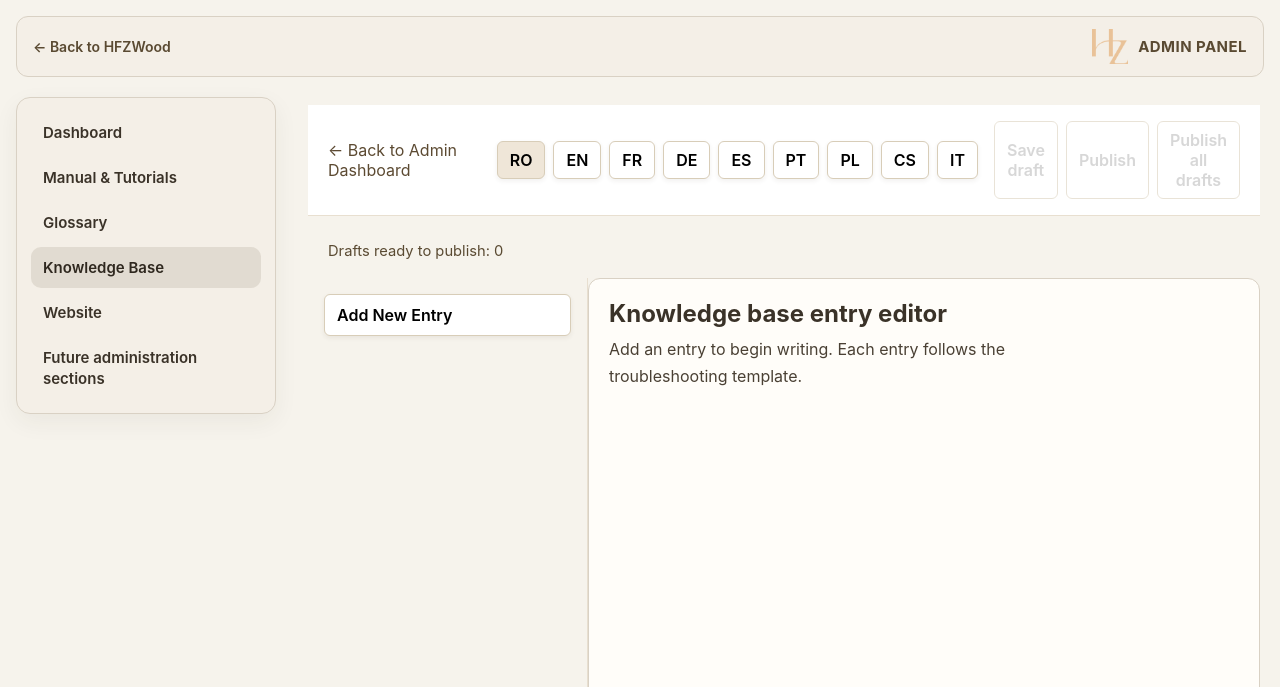
Scenario: Knowledge base management workspace (Task 61) › does not offer isolated Romanian translation deletion
What coordinates should you click on to do the following:
click the button "Add New Entry"
I would click on:
 (448, 315)
Its box is 324,294 -> 571,336.
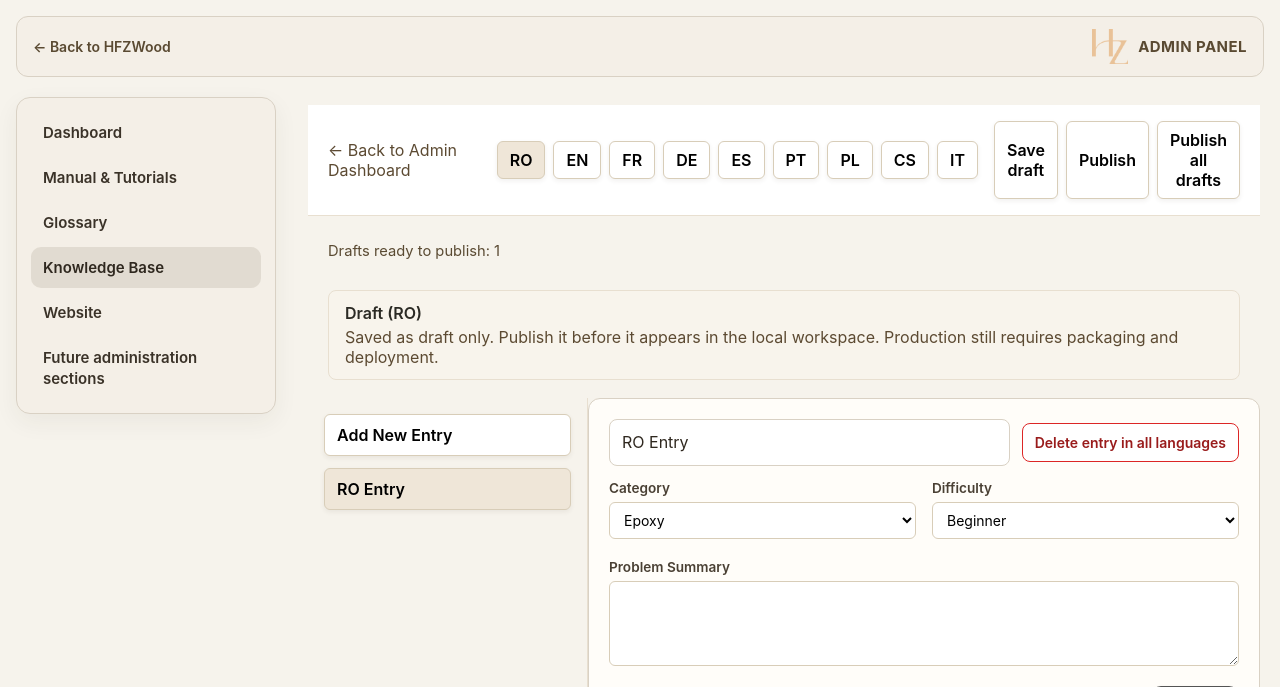
expect the button "RO Entry" is shown: met, box 324,468 -> 571,510
expect the button "Delete entry in all languages" is shown: met, box 1022,423 -> 1239,462
